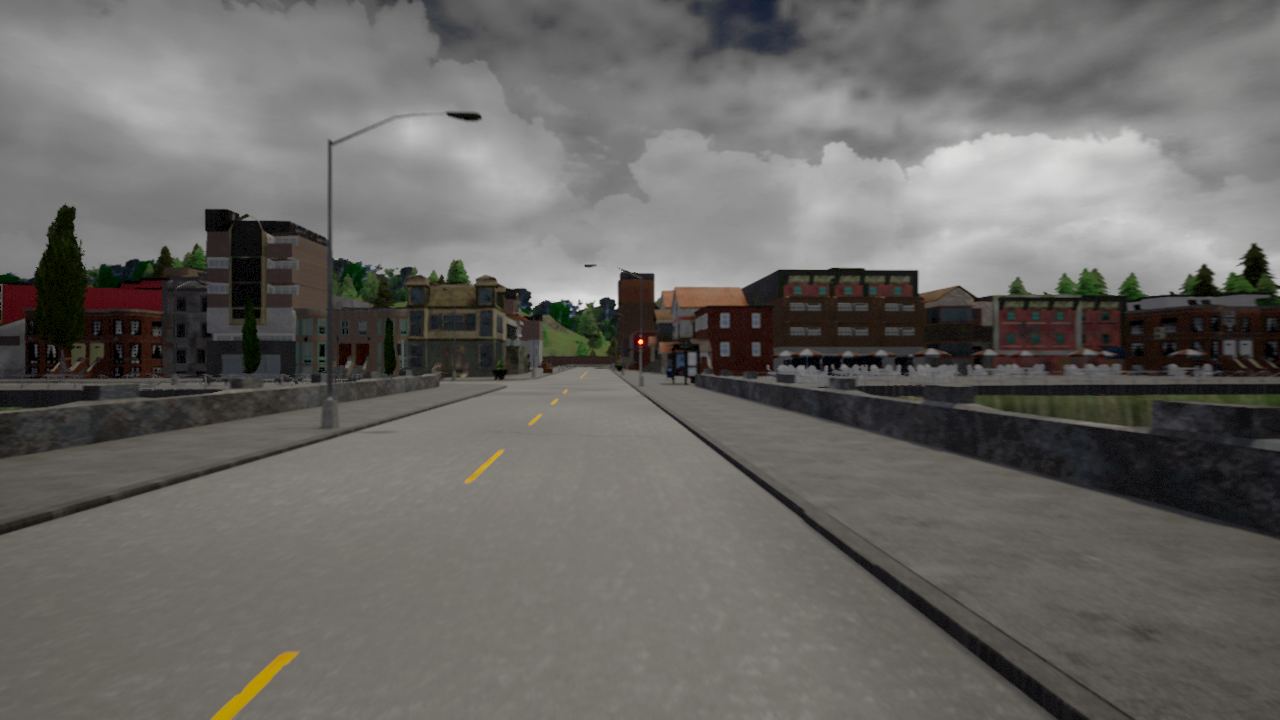red: (636, 337, 645, 354)
